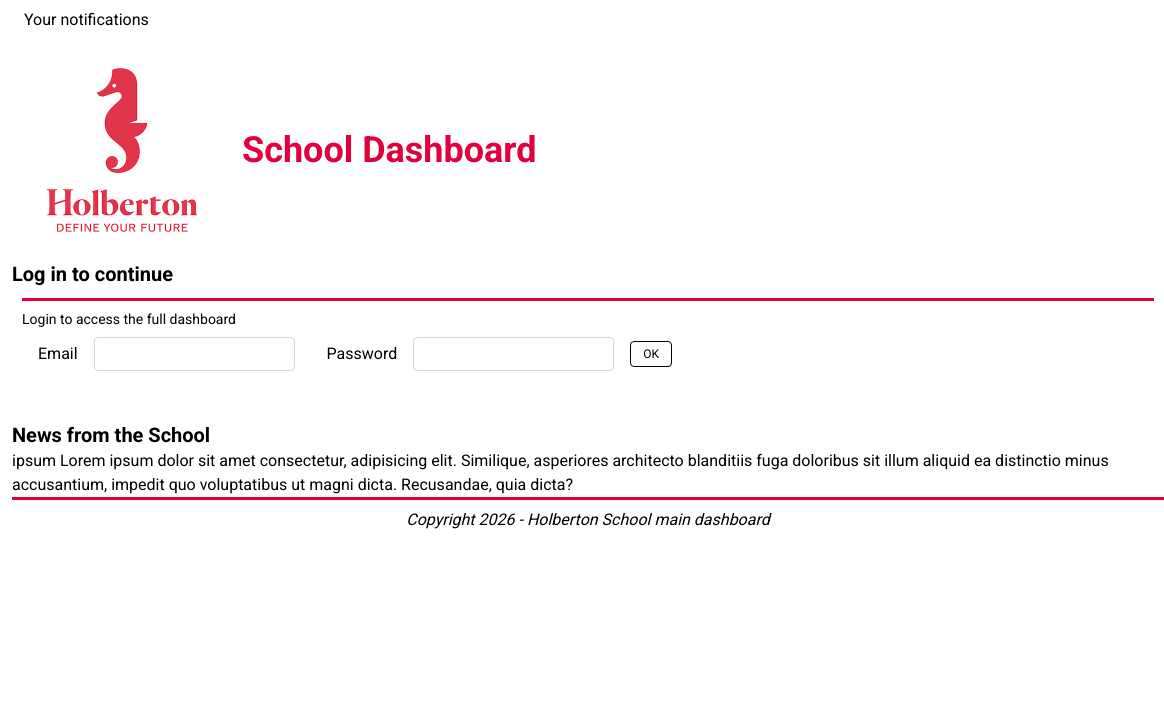
App - login / logout flow (state changes) › shows CourseList and logoutSection after login state change
Type "test@example.com" into the field labelled "Email". click: point(194, 354)
box: [94, 337, 295, 371]
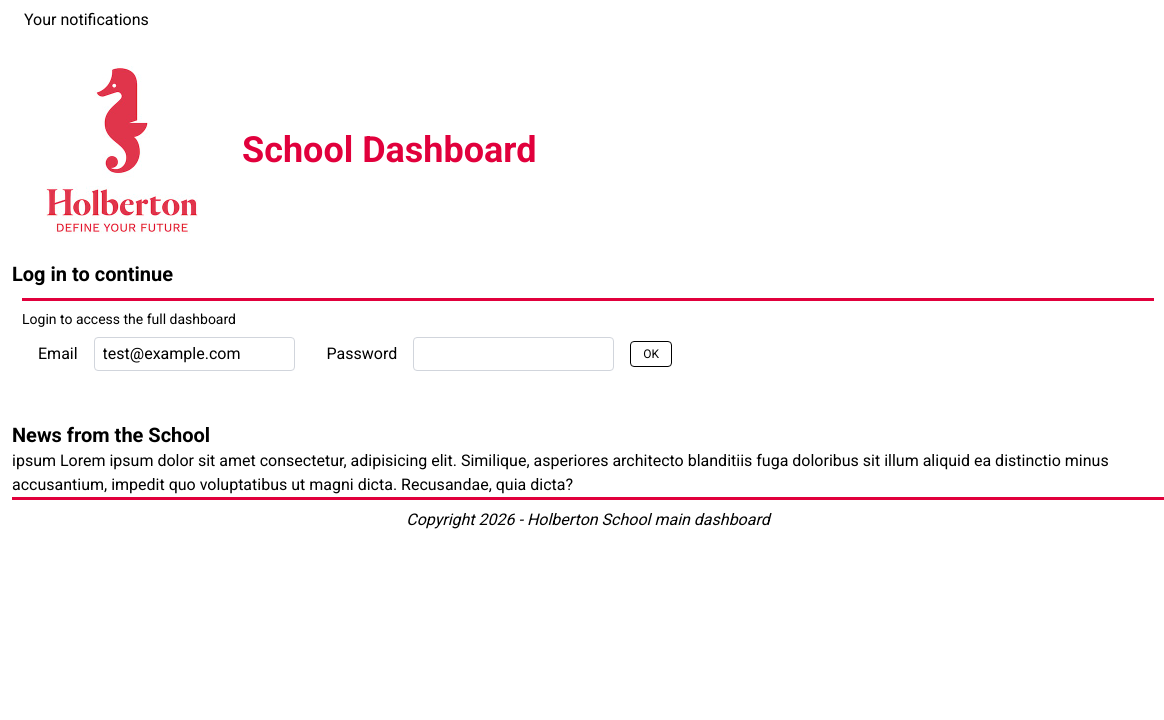
Type "password123" into the password field labelled "Password". click: point(514, 354)
box: [413, 337, 614, 371]
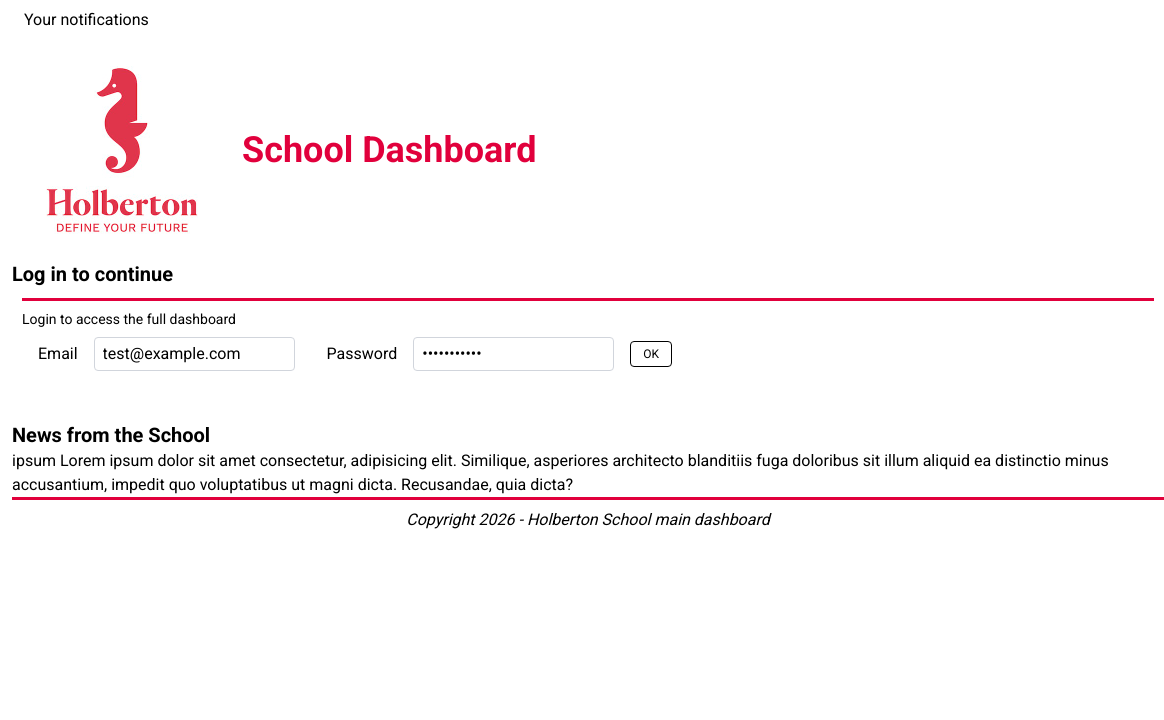
Click the button "OK". click: point(651, 354)
box: [630, 341, 672, 367]
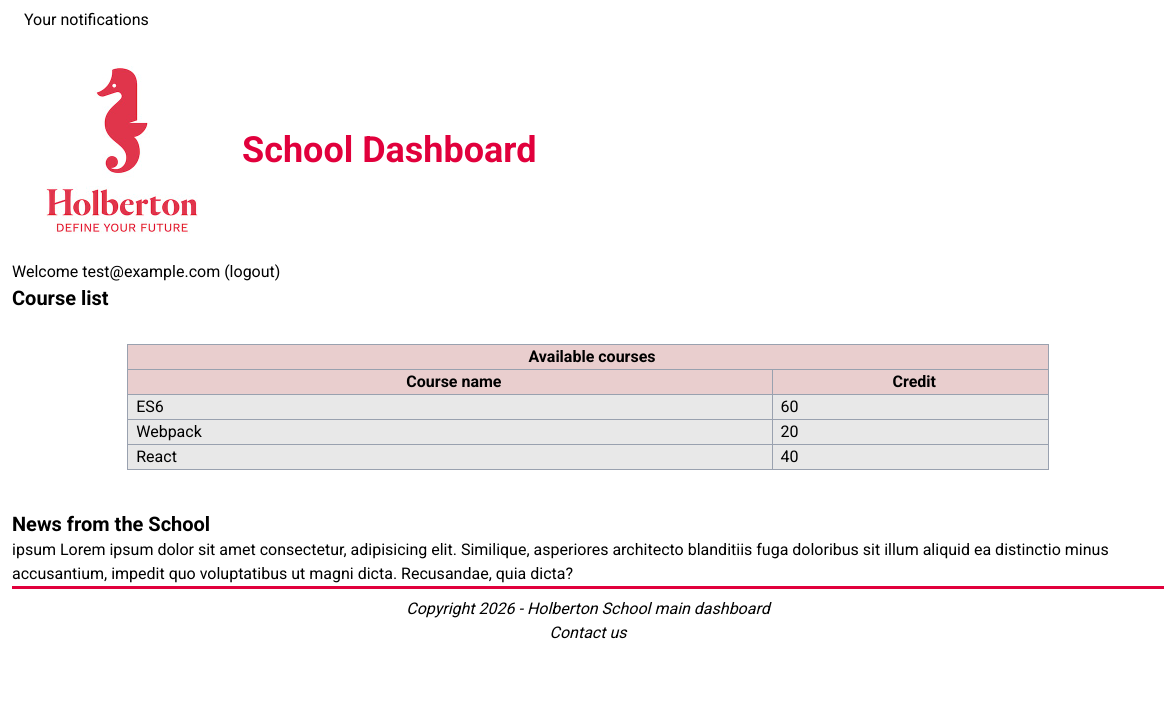
Now the table with id "CourseList" is shown, box [127, 344, 1049, 470]
Now the label labelled "Email" is gone
Now the element with id "logoutSection" is shown, box [12, 262, 280, 281]
